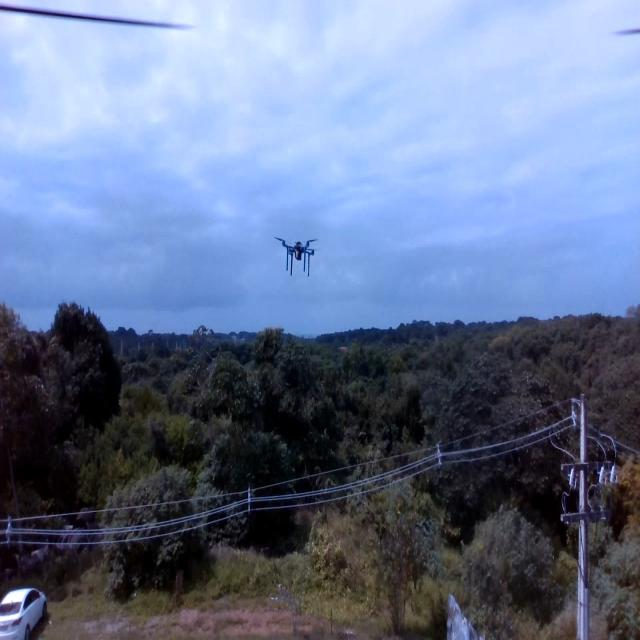-uav-: (272, 214, 322, 288)
